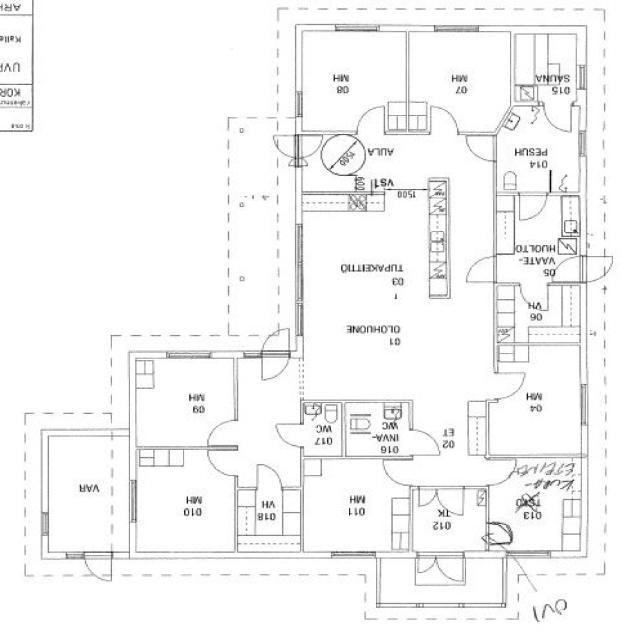door: (2, 318, 118, 425), (302, 457, 412, 552), (259, 331, 291, 383), (427, 103, 461, 139), (462, 132, 498, 164), (406, 428, 444, 458), (464, 254, 498, 286), (354, 104, 387, 136), (206, 447, 240, 478), (205, 418, 240, 448), (380, 457, 415, 487), (517, 191, 549, 223), (434, 486, 466, 518), (83, 550, 114, 582), (494, 370, 527, 400), (543, 102, 574, 133), (518, 281, 550, 311), (485, 456, 515, 487), (273, 422, 307, 449), (255, 462, 284, 491), (294, 133, 324, 160), (552, 256, 582, 283), (273, 133, 300, 160), (416, 488, 440, 510)
window: (126, 479, 142, 524), (576, 381, 591, 429), (435, 22, 480, 36), (336, 21, 380, 35), (331, 548, 376, 560), (167, 349, 212, 361), (508, 548, 552, 560), (575, 62, 589, 92), (38, 511, 51, 537)
zone: (133, 448, 237, 556), (297, 29, 407, 128), (490, 346, 586, 458), (302, 457, 411, 553), (134, 356, 238, 448), (43, 431, 116, 555), (489, 460, 582, 553), (407, 31, 513, 110), (496, 107, 582, 195), (495, 283, 581, 345), (513, 32, 580, 103), (236, 488, 302, 546), (345, 402, 408, 459), (0, 11, 34, 90), (302, 401, 343, 458), (406, 428, 443, 458), (552, 254, 583, 284), (0, 105, 34, 132), (0, 84, 34, 107), (0, 0, 34, 15)
